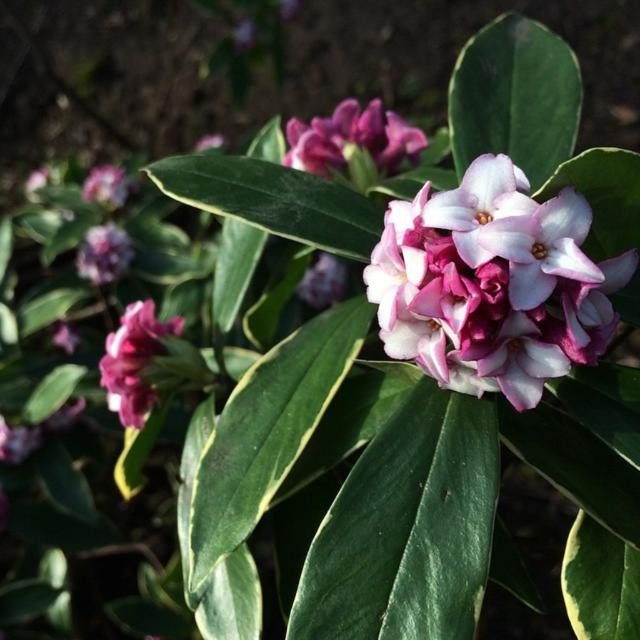Flower: (364, 147, 640, 405), (280, 95, 428, 298), (82, 154, 146, 282), (96, 296, 158, 424)
